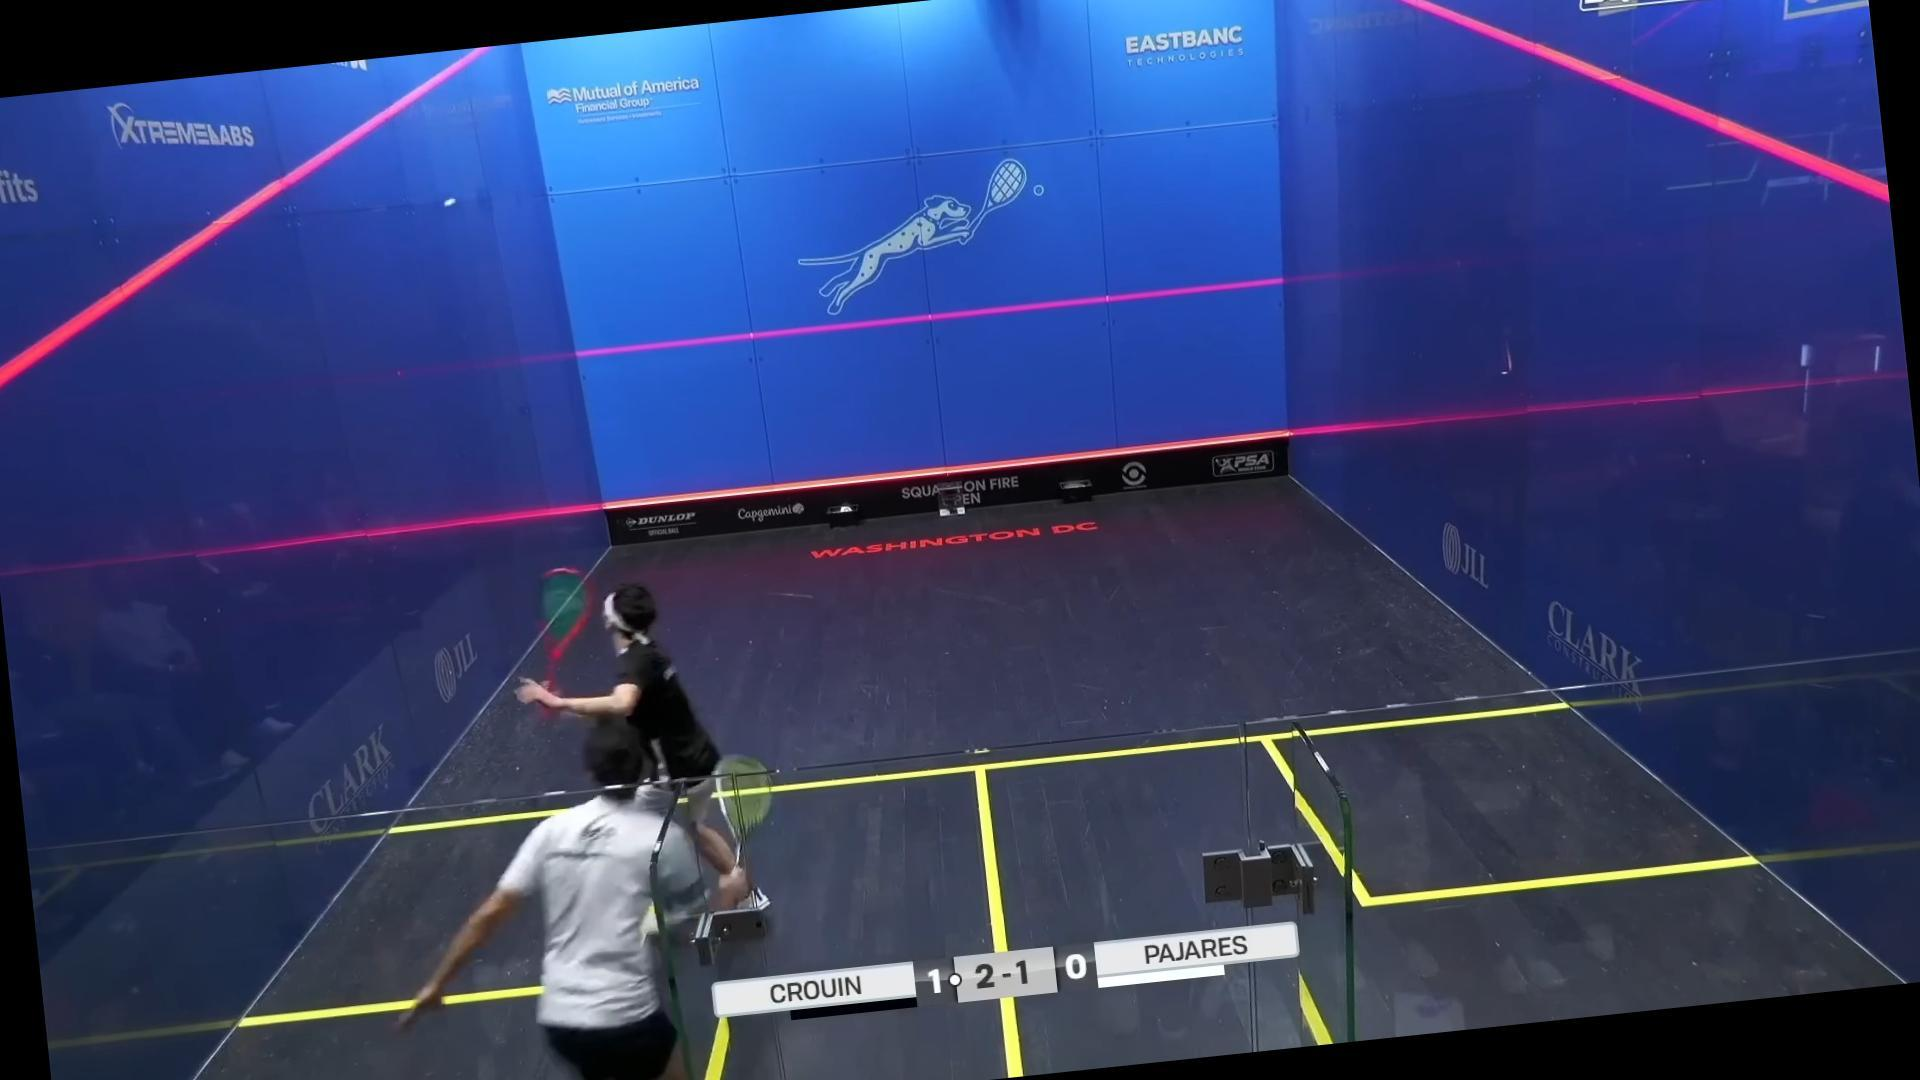Squash-Ball: (430, 183, 473, 222)
